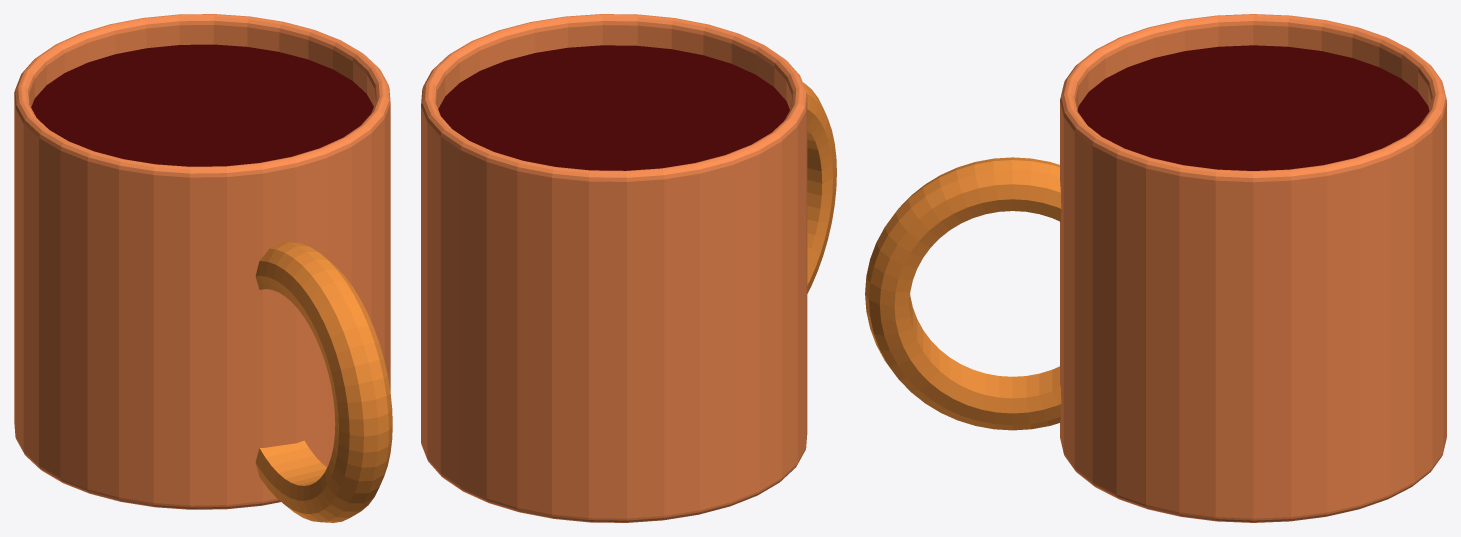
File: magcup.fbx
3 views of the same model, side by side, from view 1: azimuth 30°, elevation 25°; view 2: azimuth 150°, elevation 25°; view 3: azimuth 270°, elevation 25° (orthographic). The views are drawn at different scales.
Parts seen in each view (by area): view 1: 円柱; view 2: 円柱; view 3: 円柱.
Boxes of the visible parts, box(x1,y1,x2,y2) form: 円柱: box(14, 14, 392, 522); 円柱: box(421, 14, 836, 522); 円柱: box(865, 14, 1446, 522).
Size of the model in its own units: 200 by 200 by 301.
